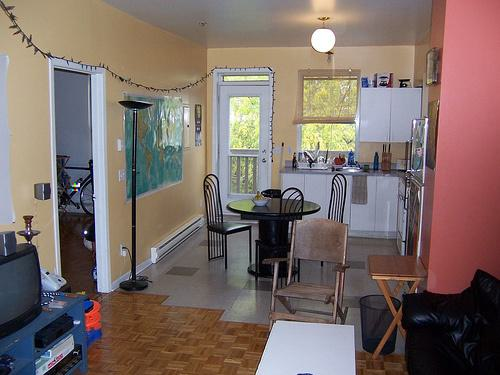car: (58, 156, 94, 218)
chair: (263, 218, 351, 329), (256, 189, 306, 292), (203, 174, 254, 273), (329, 174, 348, 223)
sofa: (401, 270, 500, 375)
tvmonitor: (1, 244, 43, 340)
